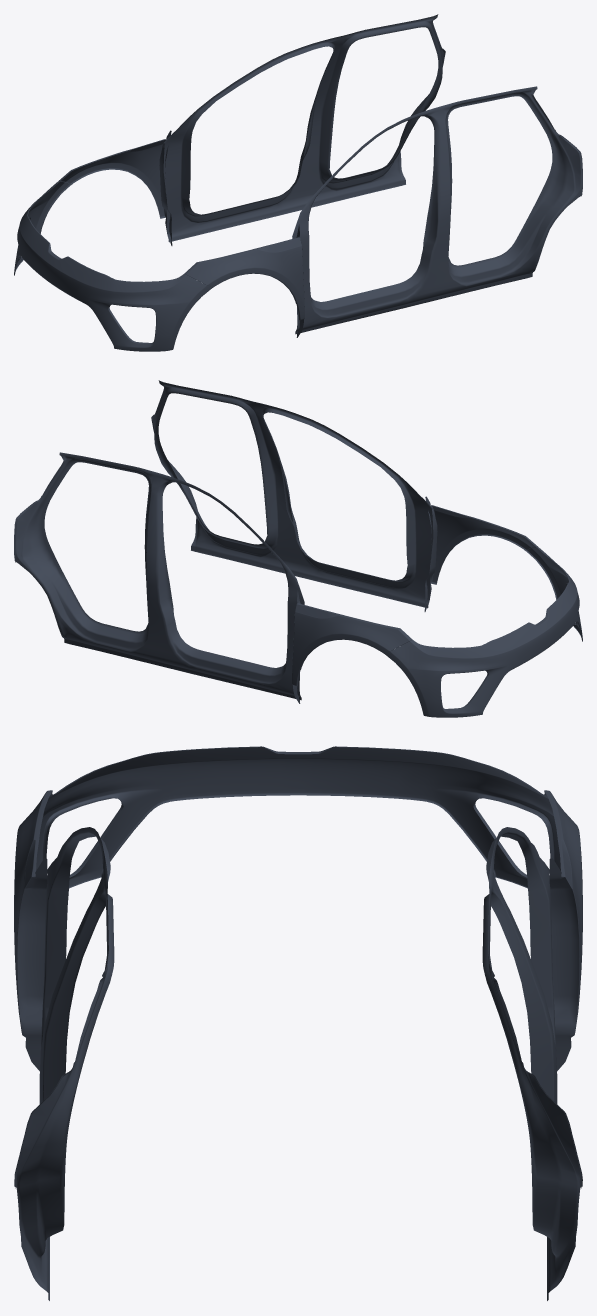
The model's file is Sheel_CarPaint.FBX.
3 views of the same model, one above another, from view 1: azimuth 30°, elevation 25°; view 2: azimuth 150°, elevation 25°; view 3: azimuth 270°, elevation 25° (orthographic). The views are drawn at different scales.
Visible parts, largest first — view 1: Sheel_CarPaint01; view 2: Sheel_CarPaint01; view 3: Sheel_CarPaint01.
Boxes of the visible parts, bbox=[...] form: Sheel_CarPaint01: bbox=[14, 14, 582, 351]; Sheel_CarPaint01: bbox=[14, 380, 582, 717]; Sheel_CarPaint01: bbox=[14, 746, 582, 1300].
Size of the model in its own units: 350 by 132 by 188.
